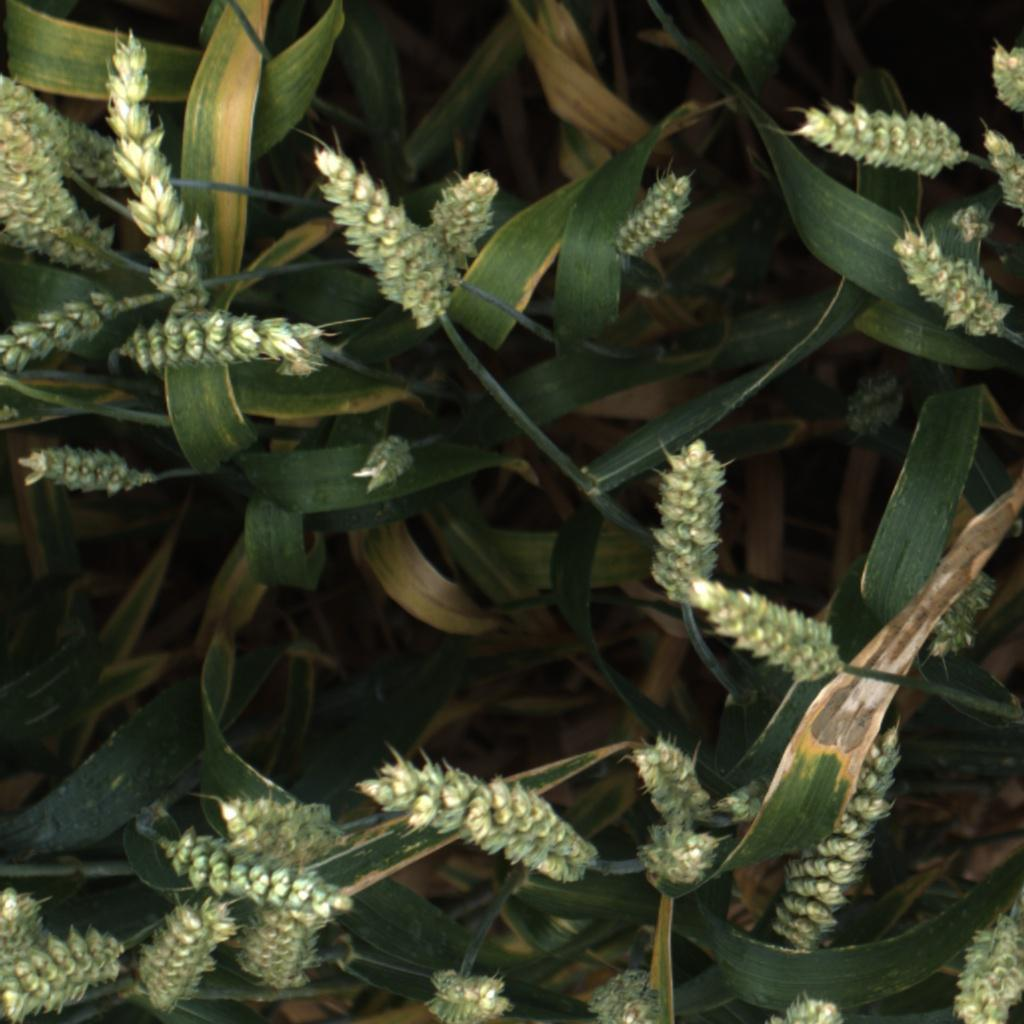0-0: (357, 740, 597, 886), (769, 725, 909, 959), (108, 29, 225, 295), (309, 142, 458, 335), (154, 818, 363, 921), (1, 113, 116, 277), (693, 583, 850, 683), (781, 101, 970, 181), (645, 436, 729, 612), (886, 225, 1004, 346), (0, 69, 115, 192), (130, 310, 328, 378), (0, 919, 123, 1020), (147, 894, 239, 1023), (933, 895, 1023, 1024), (209, 780, 339, 861), (241, 899, 334, 1004), (418, 162, 504, 271), (0, 295, 118, 374), (628, 728, 716, 828), (10, 444, 154, 504), (614, 165, 699, 264), (926, 569, 1014, 659), (0, 884, 52, 1023), (631, 826, 725, 897), (417, 960, 513, 1024), (837, 369, 912, 442), (580, 962, 665, 1024), (983, 126, 1024, 232), (351, 432, 411, 501), (738, 991, 845, 1024), (987, 34, 1024, 117), (717, 781, 776, 829), (945, 202, 995, 248)
